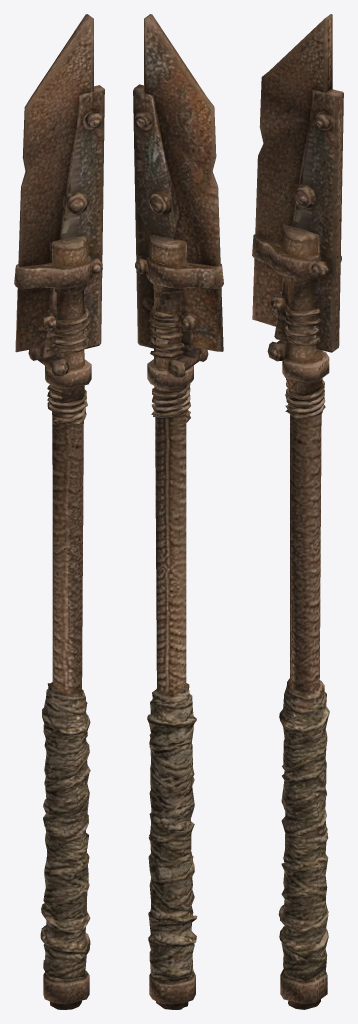
File: dory_spear.glb
3 renders of one model, left to right at view 1: azimuth 30°, elevation 25°; view 2: azimuth 150°, elevation 25°; view 3: azimuth 330°, elevation 25°, orthographic.
Parts seen in each view (by area): view 1: dory_spear; view 2: dory_spear; view 3: dory_spear.
Part boxes in pixels (left/top/right/bottom): dory_spear: left=14, top=14, right=104, bottom=1009; dory_spear: left=133, top=14, right=223, bottom=1009; dory_spear: left=252, top=14, right=343, bottom=1009.
Bounding box in the file's own units: 0.0918 × 0.998 × 0.0527.
1 material, 1 textured.
